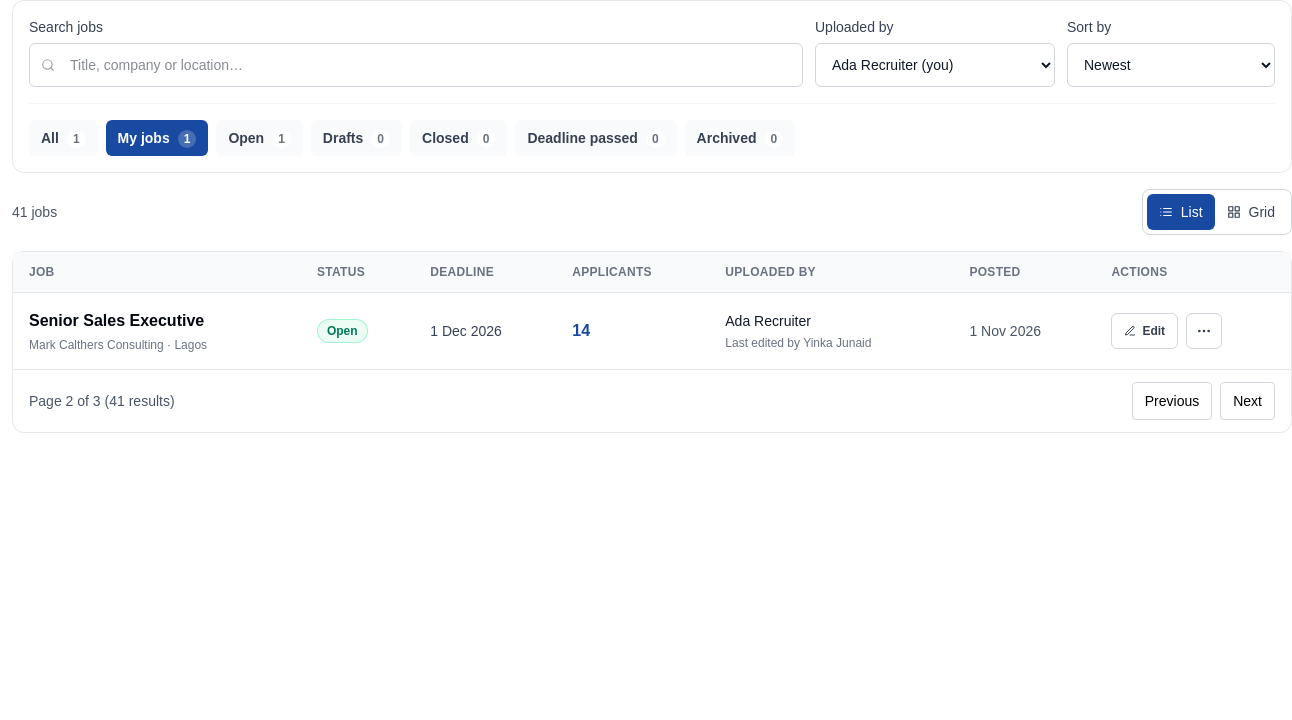
Test: staff jobs directory layouts › shows vacancy details and role permitted application links in grid view
Click the button "Grid" at (1251, 212), box [1214,194,1287,230]
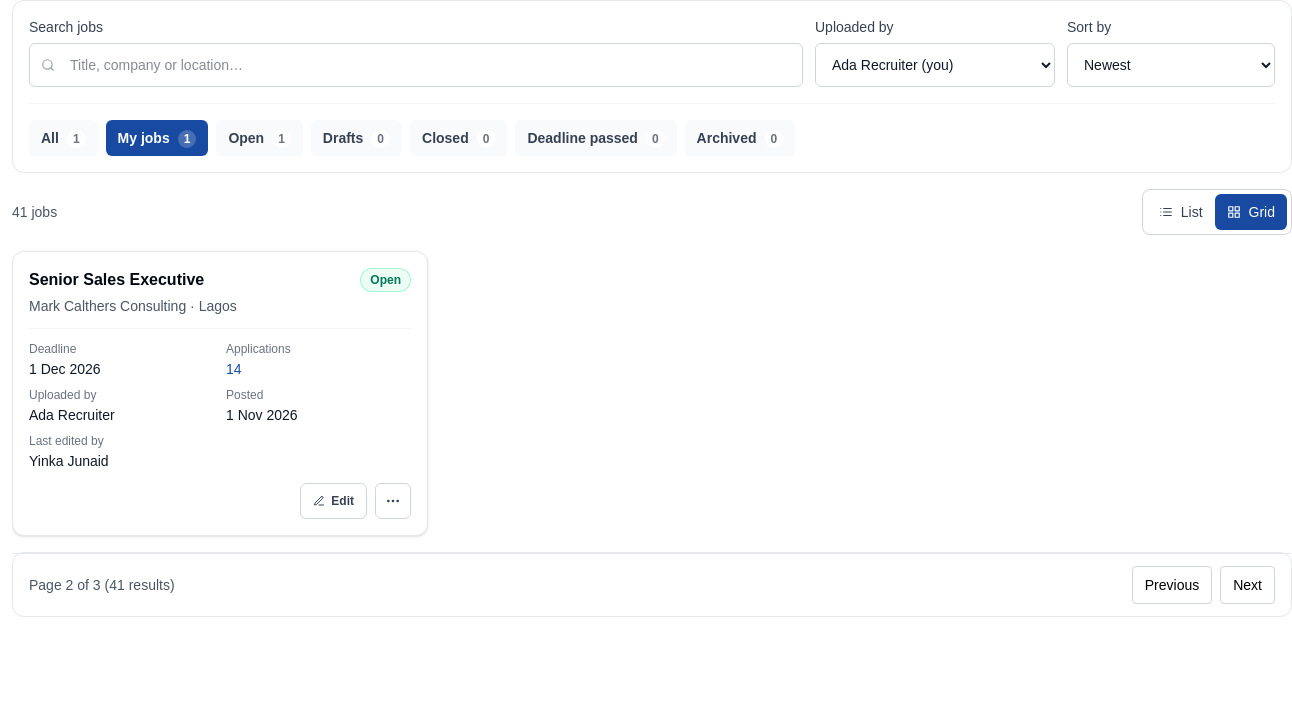
Expected: the element "Senior Sales Executive" shows "Mark Calthers Consulting", [29,298,186,314]
Expected: the element "Senior Sales Executive" shows "Deadline", [29,342,76,356]
Expected: the element "Senior Sales Executive" shows "14", [226,361,242,377]
